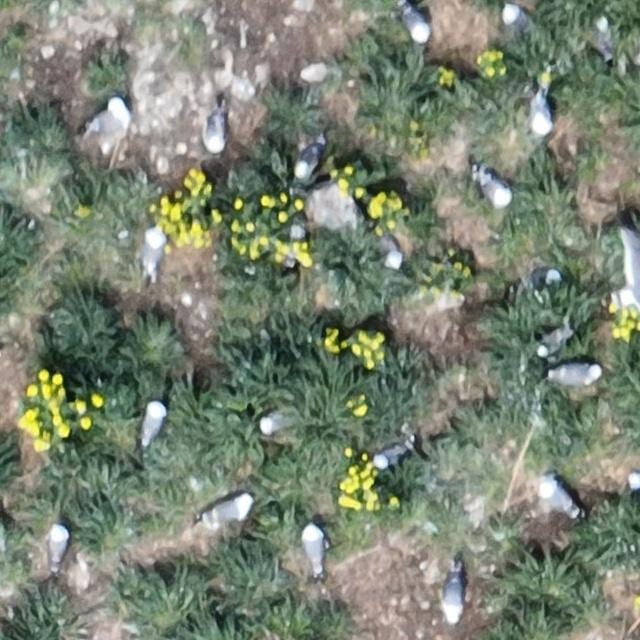F: (619, 230, 640, 325)
umineko: (539, 476, 582, 520), (92, 100, 128, 134), (204, 498, 252, 522), (142, 230, 165, 278), (529, 93, 554, 136), (403, 5, 430, 43), (482, 176, 512, 210), (554, 363, 600, 385), (303, 528, 325, 574), (295, 142, 321, 180), (442, 573, 463, 619), (204, 112, 226, 154), (143, 403, 166, 443), (373, 441, 408, 467), (524, 268, 564, 290), (48, 526, 68, 568), (539, 327, 569, 353), (594, 18, 612, 59), (259, 411, 291, 434), (380, 236, 403, 268), (503, 5, 528, 32)
